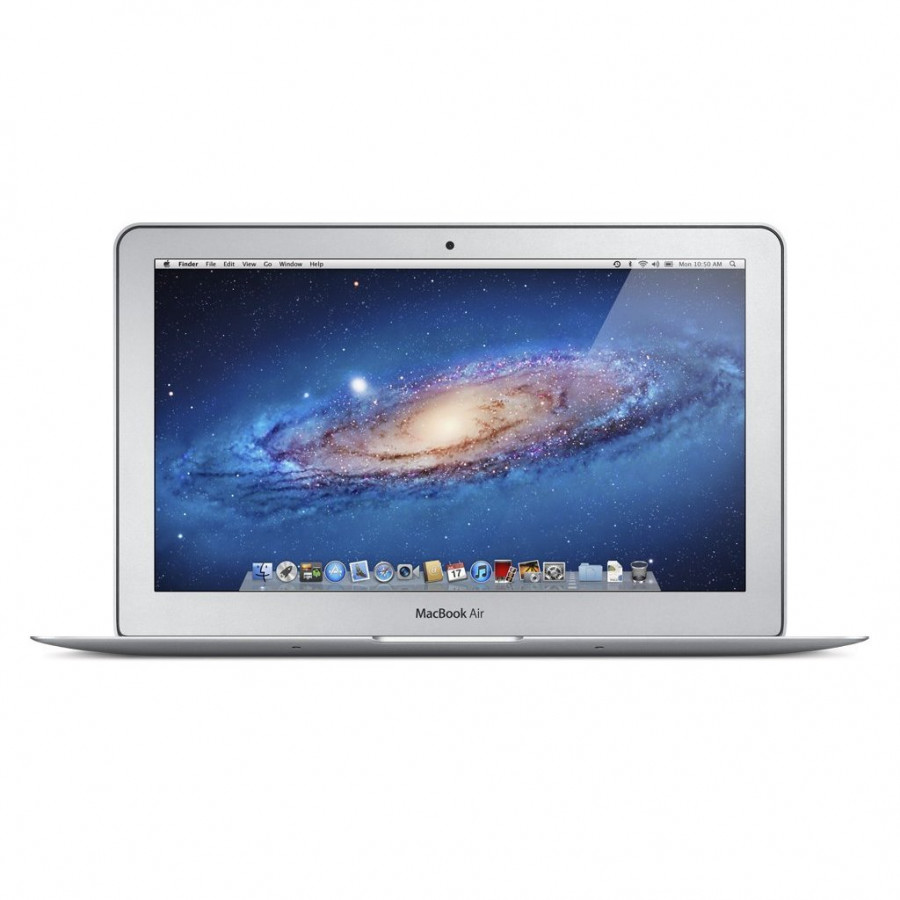Apple: (409, 600, 493, 625)
